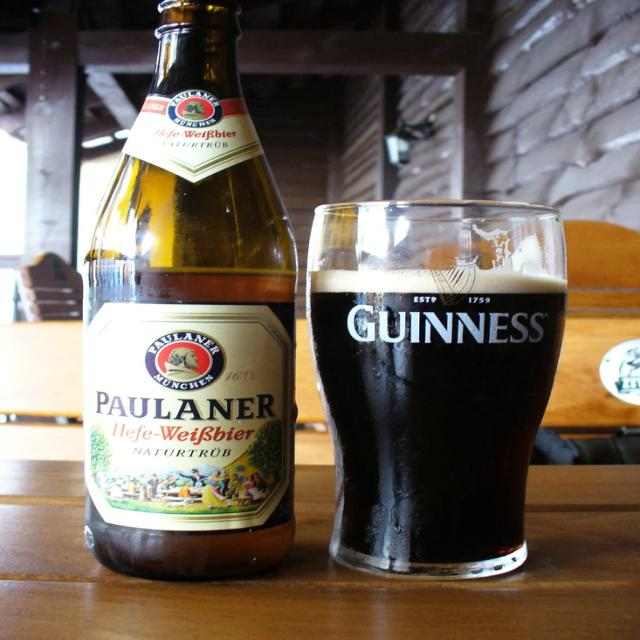paulaner: (143, 331, 230, 393), (167, 91, 223, 130)
